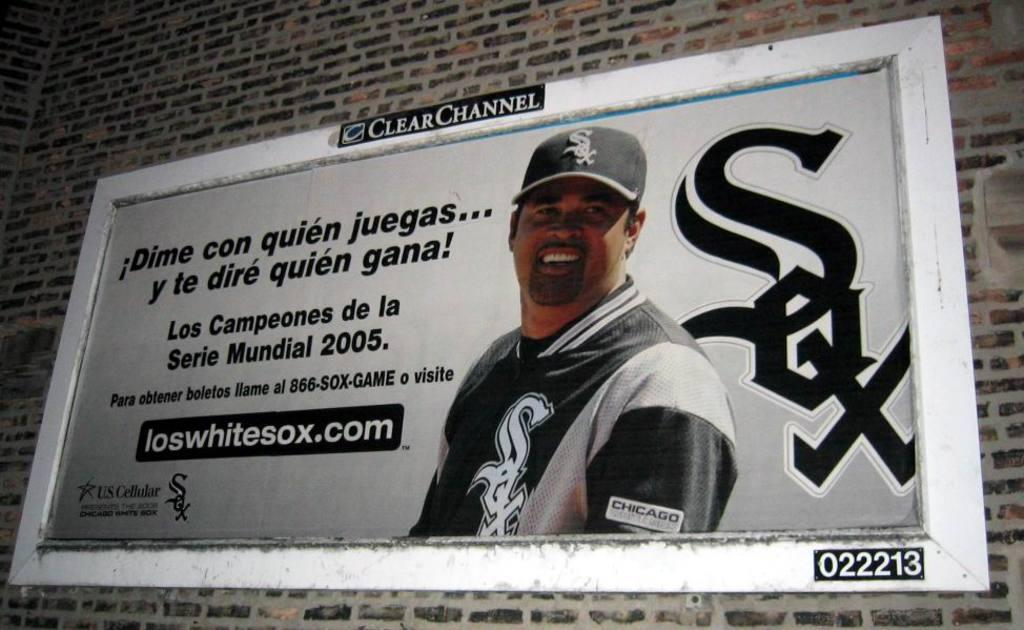Hat: (511, 122, 643, 204)
